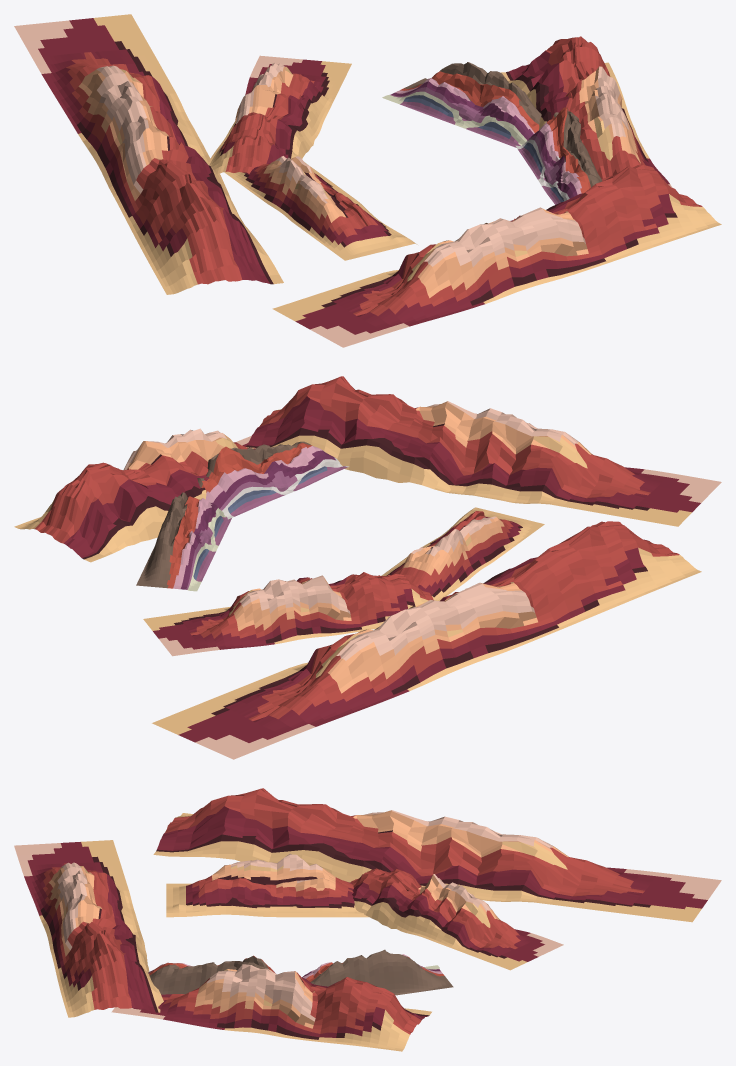
The model's file is Cerros3b 1.fbx.
3 renders of one model, top to bottom at view 1: azimuth 30°, elevation 25°; view 2: azimuth 150°, elevation 25°; view 3: azimuth 270°, elevation 25°, orthographic. The views are drawn at different scales.
Visible parts, largest first — view 1: CerroHornocal2.003, CerroHornocal2.002, CerroHornocal2, CerroHornocal2.001, CerroHornocal1, CerroSiete1, CerroSiete1.001; view 2: CerroHornocal2.003, CerroHornocal2.002, CerroHornocal2.001, CerroHornocal2, CerroSiete1.001, CerroHornocal1, CerroSiete1; view 3: CerroHornocal2.003, CerroHornocal2.002, CerroHornocal2.001, CerroHornocal2, CerroHornocal1, CerroSiete1, CerroSiete1.001.
Boxes of the visible parts, x1,y1,x2,y2 form: CerroHornocal2.003: (14, 14, 283, 294); CerroHornocal2.002: (272, 165, 721, 347); CerroHornocal2: (207, 55, 351, 173); CerroHornocal2.001: (500, 36, 672, 187); CerroHornocal1: (224, 156, 417, 260); CerroSiete1: (382, 62, 541, 147); CerroSiete1.001: (515, 107, 602, 204); CerroHornocal2.003: (152, 521, 701, 759); CerroHornocal2.002: (246, 376, 721, 526); CerroHornocal2.001: (14, 428, 342, 562); CerroHornocal2: (143, 572, 433, 656); CerroSiete1.001: (197, 441, 349, 519); CerroHornocal1: (381, 507, 544, 600); CerroSiete1: (136, 492, 231, 591); CerroHornocal2.003: (153, 788, 721, 922); CerroHornocal2.002: (14, 840, 163, 1017); CerroHornocal2.001: (111, 964, 431, 1051); CerroHornocal2: (350, 868, 563, 970); CerroHornocal1: (166, 853, 368, 917); CerroSiete1: (302, 949, 453, 995); CerroSiete1.001: (148, 955, 275, 994).
Size of the model in its own units: 165968 by 19284 by 207958.
